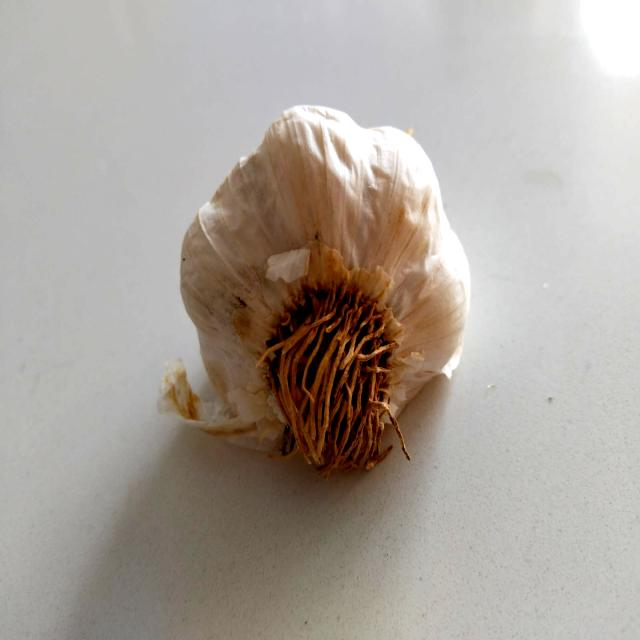garlic: (136, 64, 530, 520)
